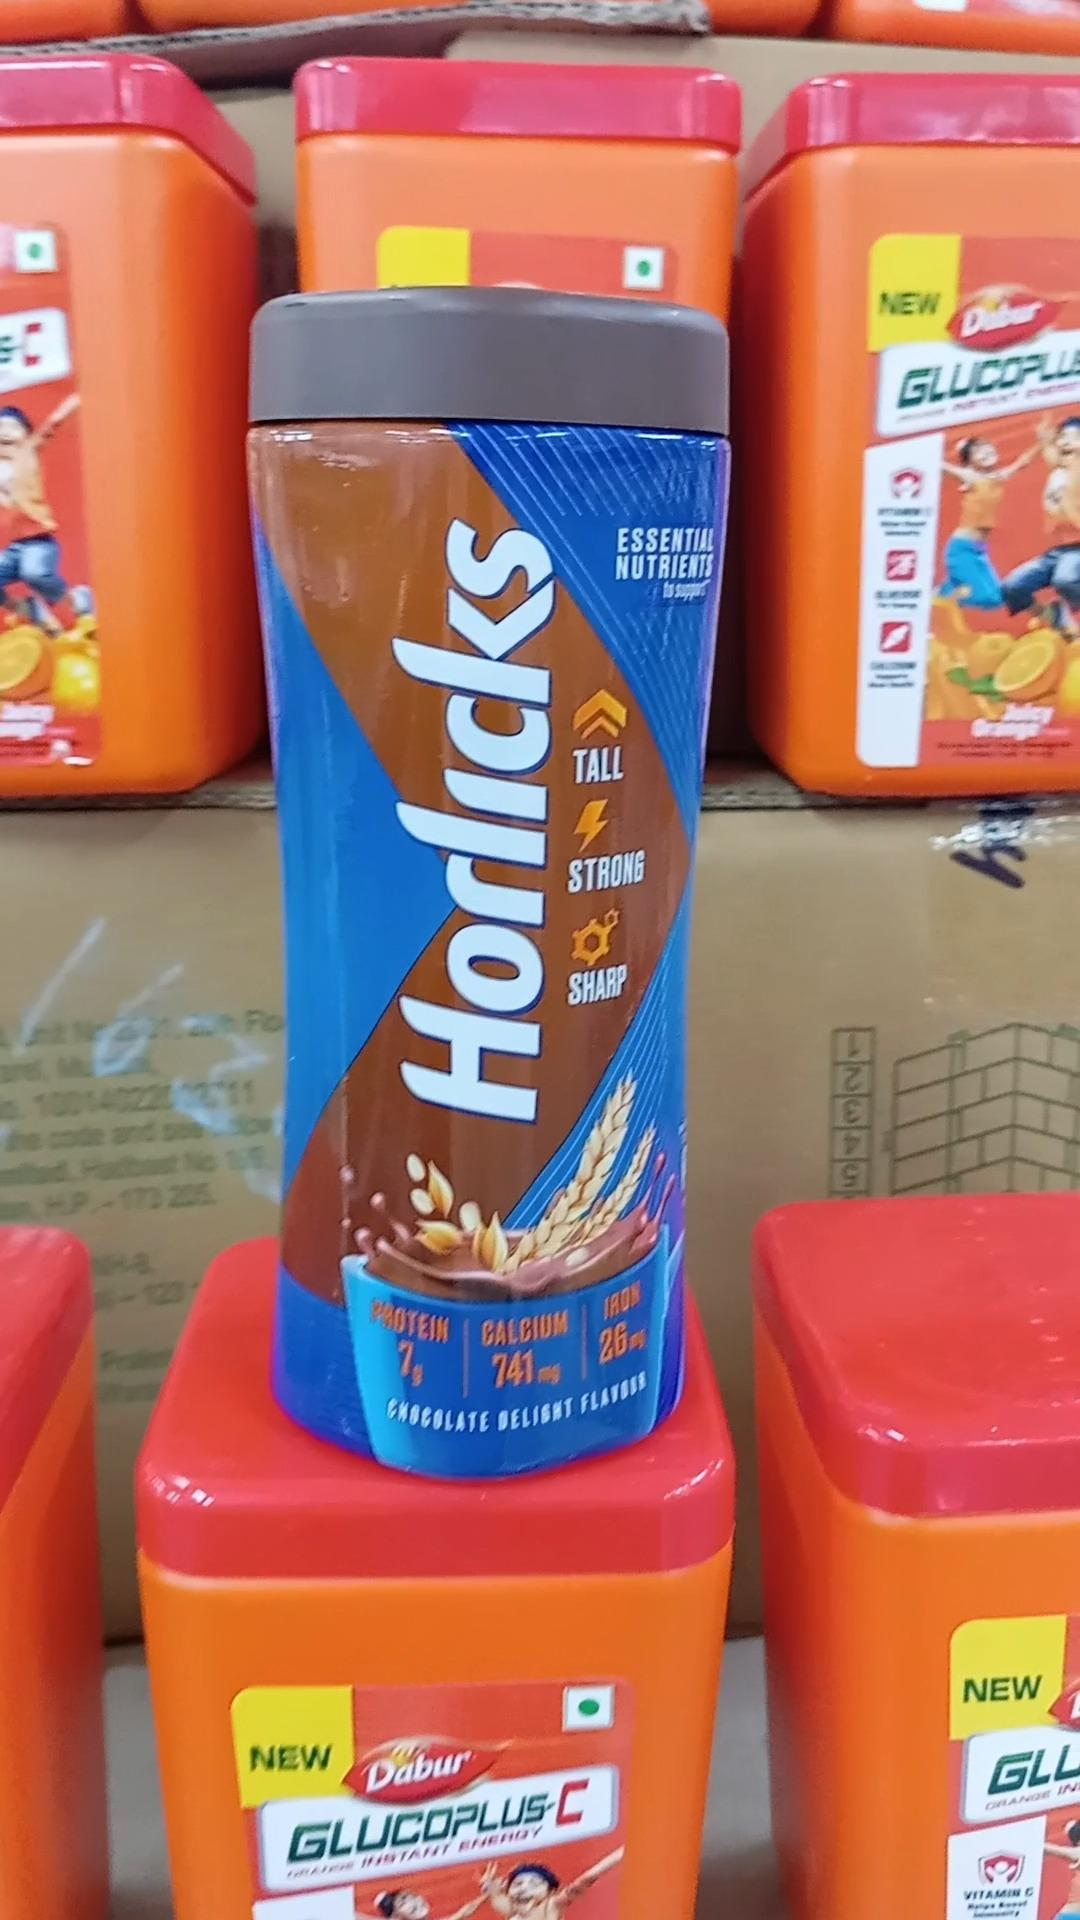HORLICK_CHOCOLATE_500_G_JAR: (260, 289, 732, 1460)
